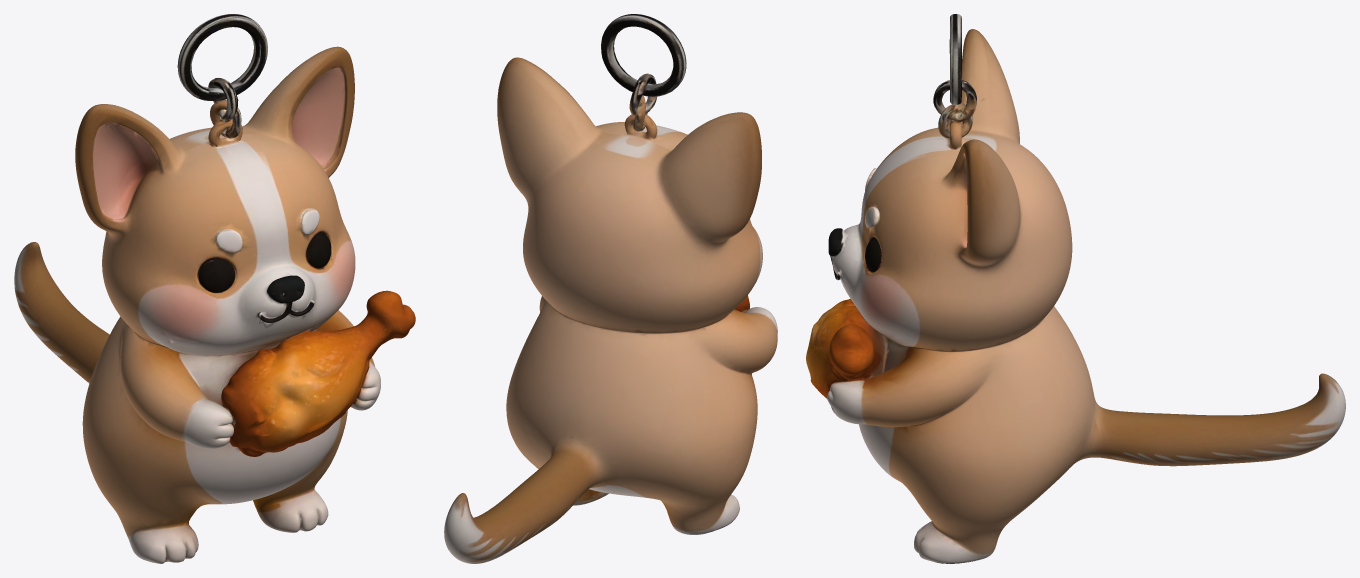
Rendered from dog-keychain_chicken.glb.
The picture shows the model from 3 angles, left to right: view 1: azimuth 30°, elevation 25°; view 2: azimuth 150°, elevation 25°; view 3: azimuth 270°, elevation 25°; orthographic projection. The views are drawn at different scales.
Visible parts, largest first — view 1: node_0; view 2: node_0; view 3: node_0.
Boxes of the visible parts, left/top/right/bottom form: node_0: left=14, top=14, right=415, bottom=563; node_0: left=444, top=14, right=777, bottom=563; node_0: left=806, top=14, right=1345, bottom=563.
Size of the model in its own units: 0.5652 by 1.02 by 0.9903.
1 material, 1 textured.
